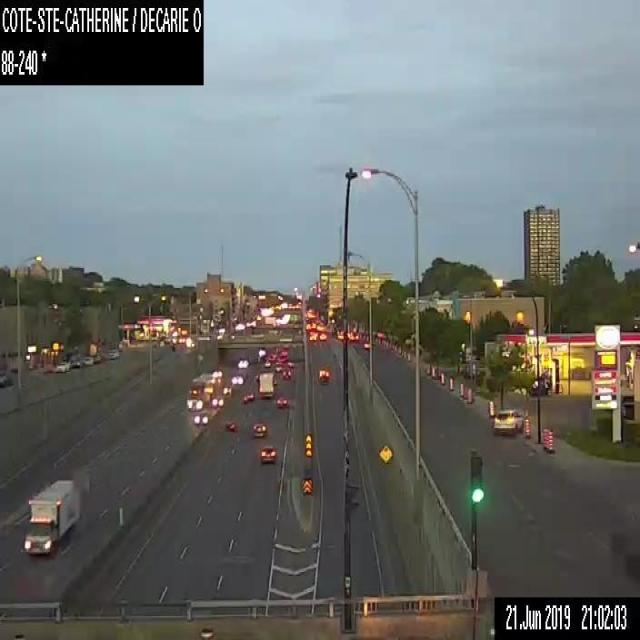construction: (542, 427, 547, 449), (524, 417, 529, 437), (488, 400, 494, 415), (548, 429, 552, 451), (467, 387, 472, 402), (459, 382, 464, 396), (449, 377, 453, 390), (440, 371, 444, 384), (407, 352, 410, 360), (432, 366, 434, 378)
vehicle: (22, 480, 80, 556), (186, 372, 216, 410), (493, 409, 523, 434), (259, 372, 273, 396), (260, 444, 275, 463), (0, 369, 13, 387), (253, 420, 267, 435), (193, 412, 209, 424), (56, 361, 70, 372), (225, 419, 236, 432), (276, 396, 289, 407), (211, 395, 224, 406), (242, 391, 254, 402), (107, 348, 119, 358), (319, 368, 328, 381), (237, 359, 248, 368), (230, 375, 242, 383), (282, 368, 290, 379), (70, 360, 80, 368), (84, 356, 92, 365), (222, 385, 230, 394), (275, 361, 282, 371), (212, 370, 222, 377), (362, 339, 369, 349), (286, 359, 295, 366), (92, 355, 101, 362), (319, 332, 326, 340), (264, 359, 270, 366), (309, 334, 316, 340)
